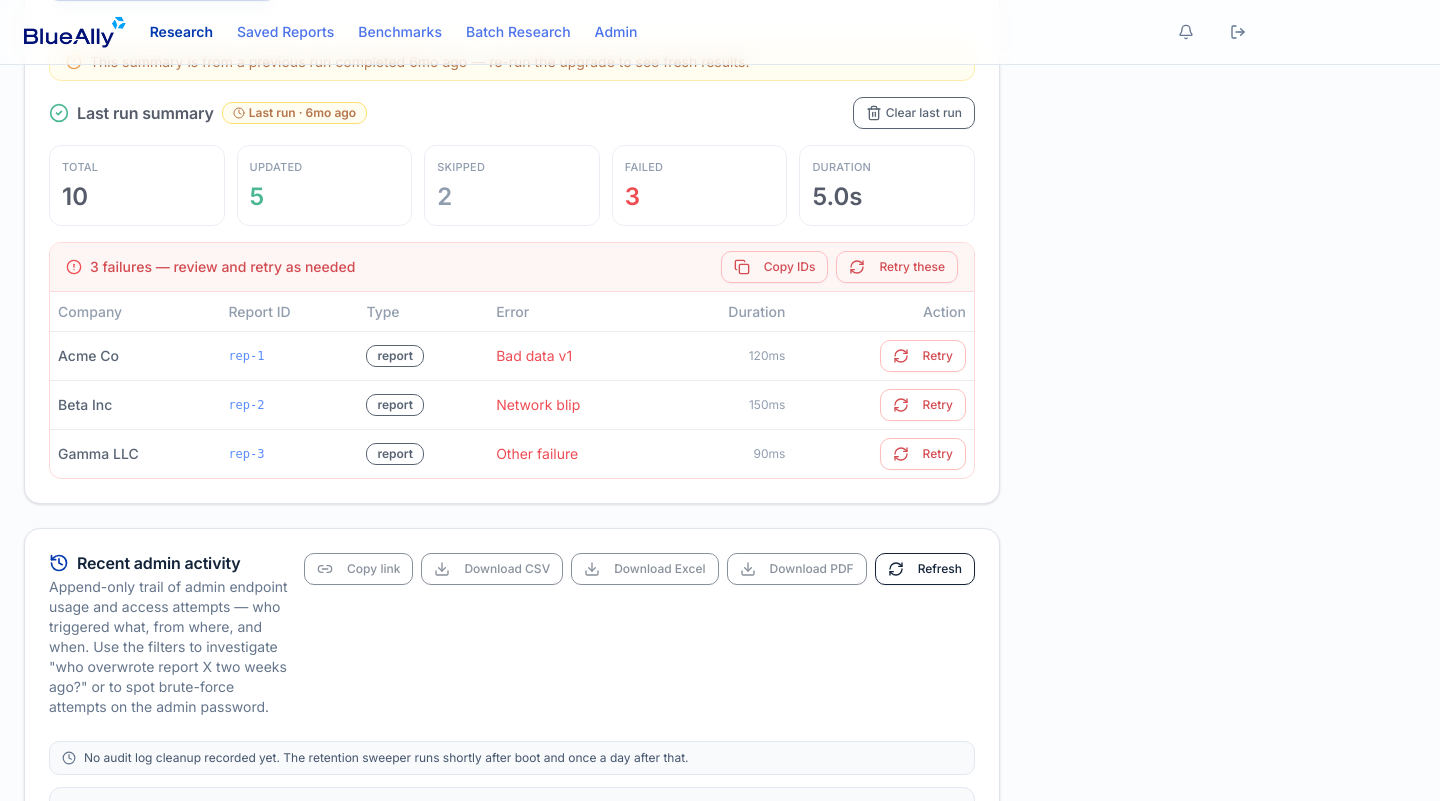
Test: AdminPanel — per-row retry preserves the failures table › keeps the other failure rows visible and shows a 'Retrying…' spinner on the targeted row while the run is in flight
The width and height of the screenshot is (1440, 801).
(page scrolled)
Click the button "Retry" in the row of "Beta Inc" at (923, 405), box top-left (880, 389), bottom-right (966, 421)
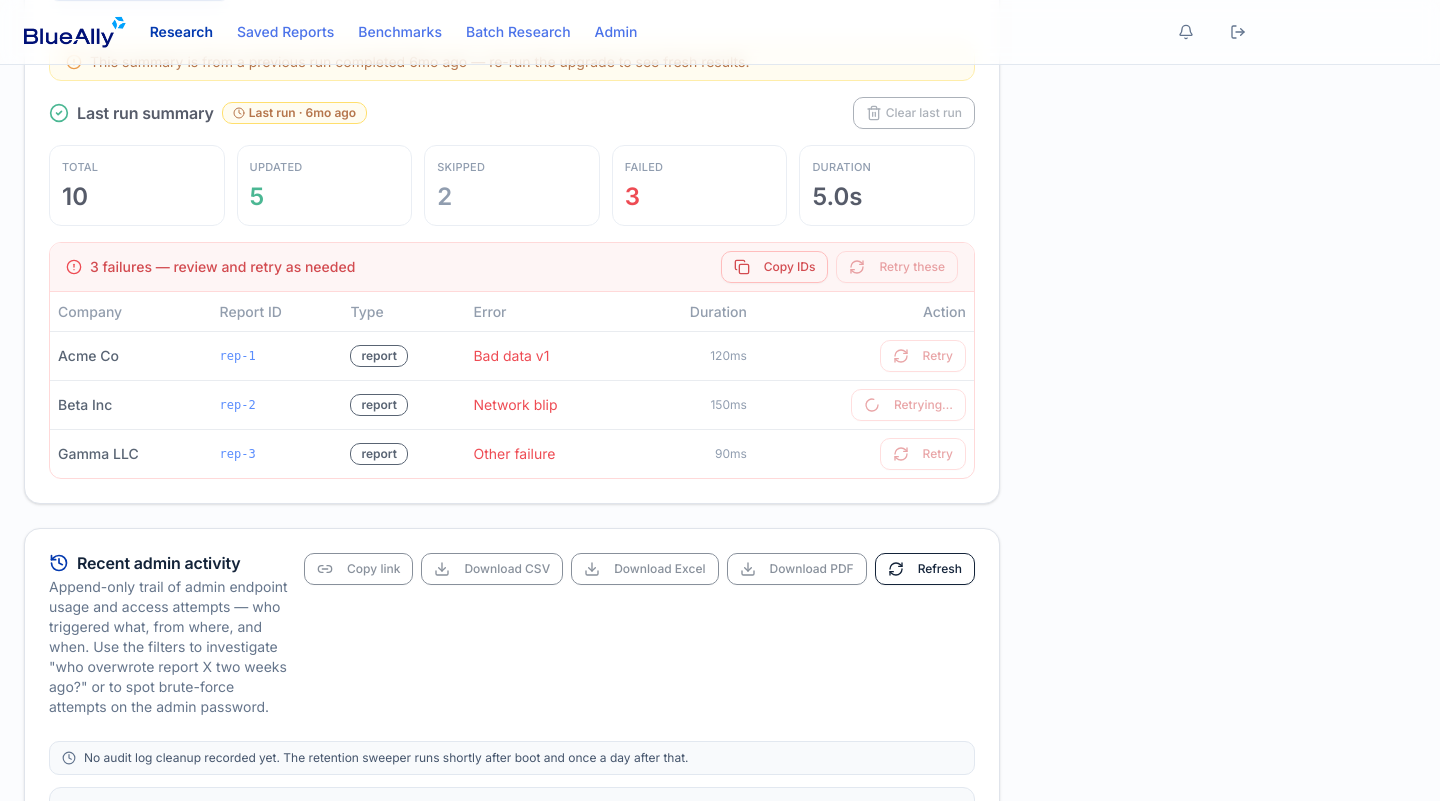
Expected: the text "Retrying…" is not shown
Expected: the button "Retrying…" is shown, top-left (851, 389), bottom-right (966, 421)
